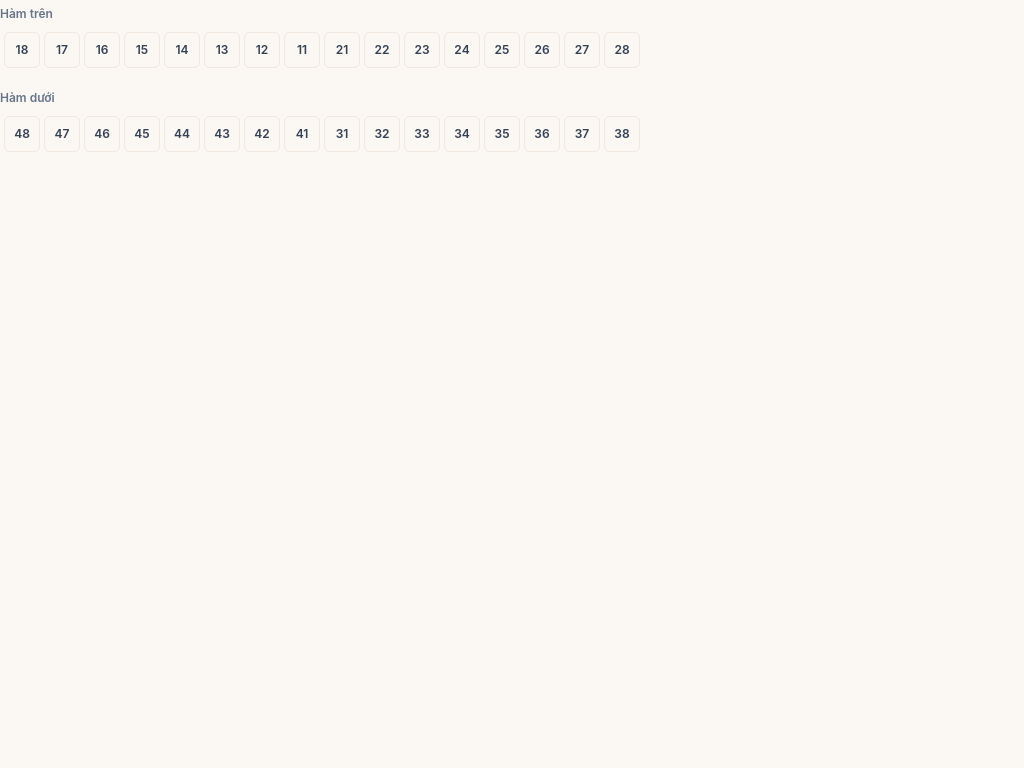
DentalChart › closes an active popover when disabled, and keeps it closed after re-enabling
Click the button named "Răng 16". click: (102,50)
box: [84,32,120,68]
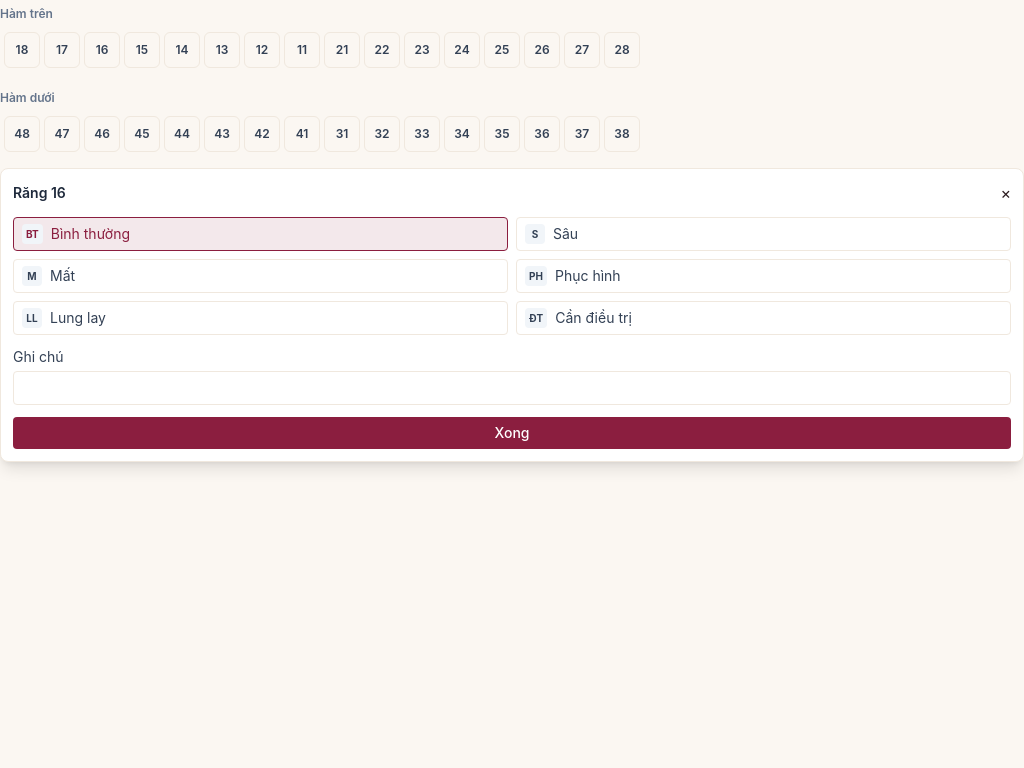
Expected: the dialog "Răng 16" is shown, [0,168,1023,462]
